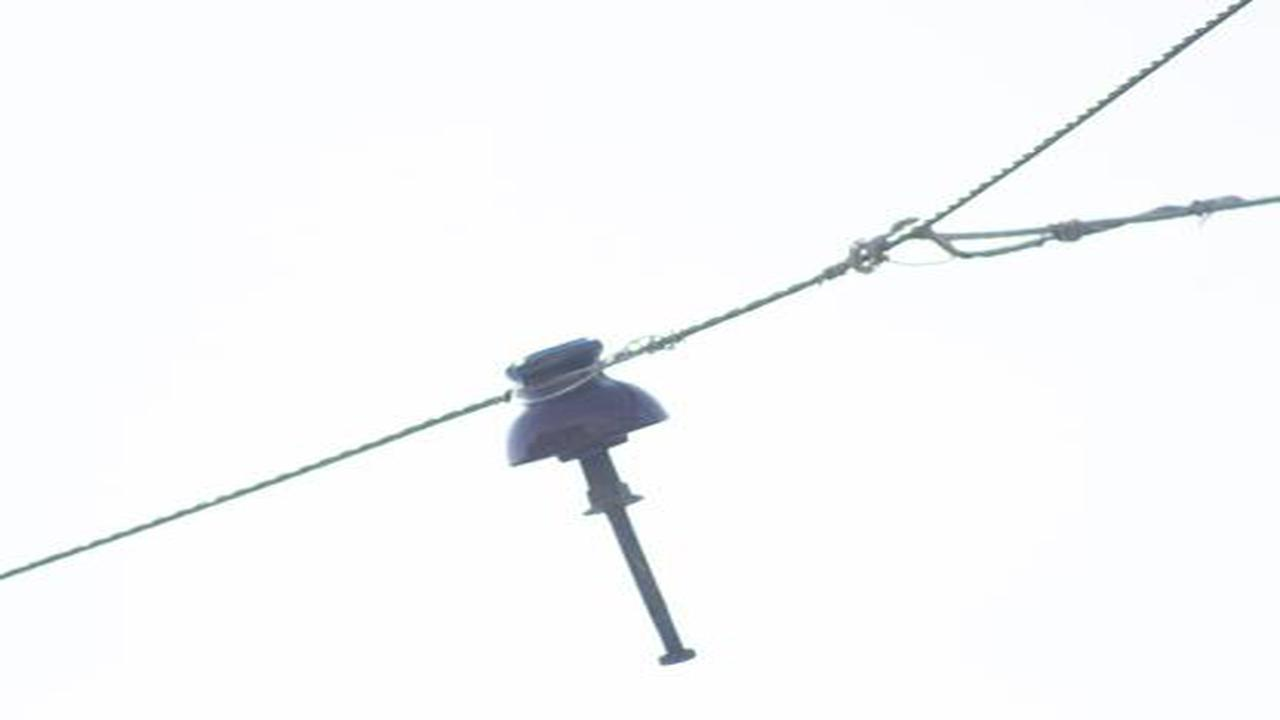insulator_pin: (488, 329, 676, 473)
